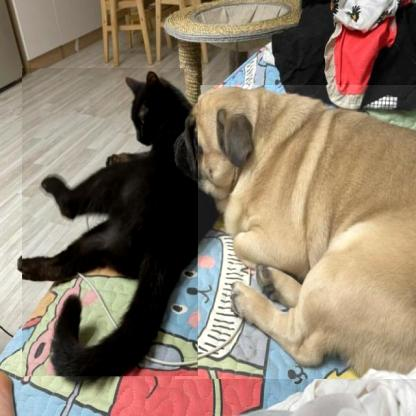cat: (22, 69, 198, 376)
dog: (175, 85, 416, 379)
